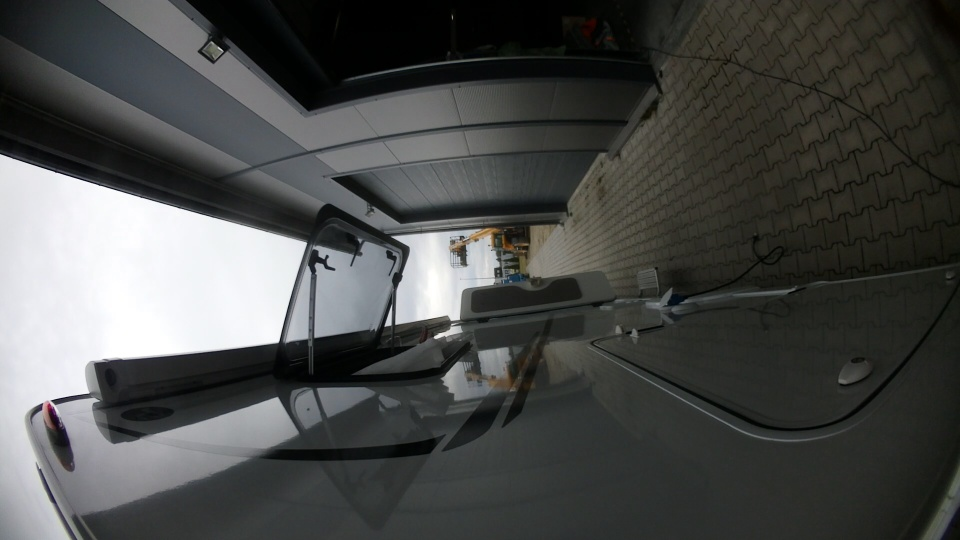door_back: (456, 266, 625, 321)
step_back: (632, 264, 668, 305)
window_back: (264, 198, 458, 385)
